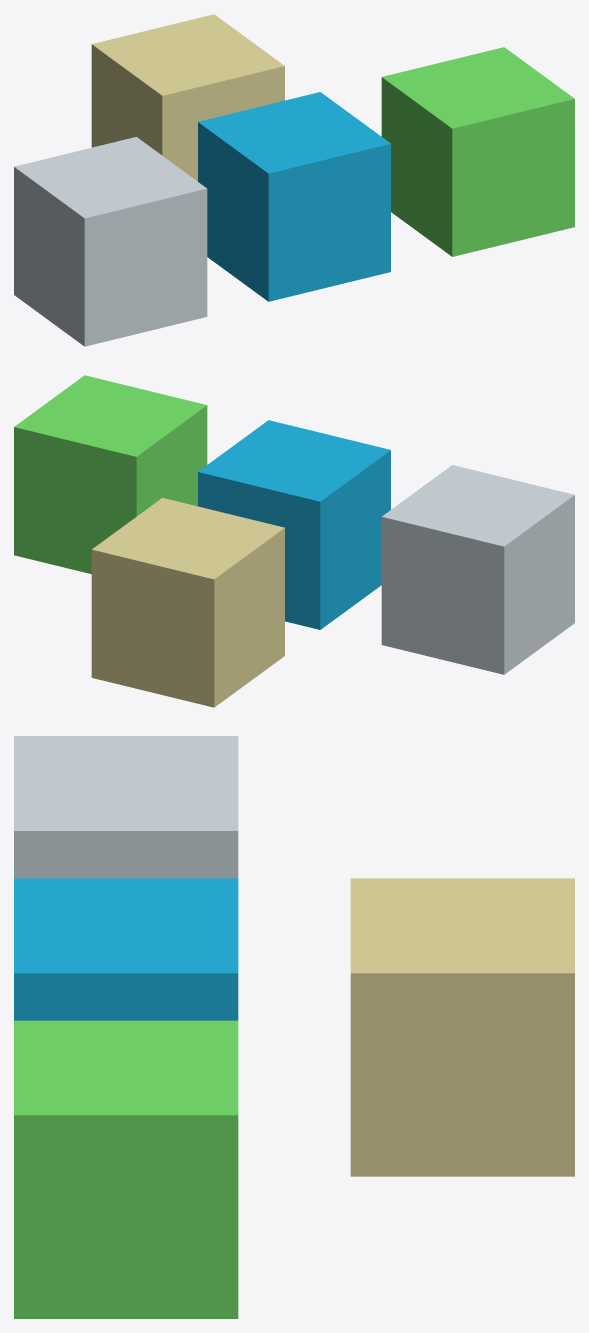
The model's file is Blocks.fbx.
3 renders of one model, top to bottom at view 1: azimuth 30°, elevation 25°; view 2: azimuth 150°, elevation 25°; view 3: azimuth 270°, elevation 25°, orthographic. The views are drawn at different scales.
Visible parts, largest first — view 1: Rock, Grass, Water, Sand; view 2: Sand, Rock, Grass, Water; view 3: Sand, Grass, Water, Rock.
Part boxes in pixels (box(x1,y1,x2,y2)): Rock: box(14, 137, 207, 346); Grass: box(381, 47, 574, 256); Water: box(198, 92, 390, 301); Sand: box(91, 14, 284, 181); Sand: box(91, 498, 284, 707); Rock: box(381, 465, 574, 674); Grass: box(14, 375, 207, 573); Water: box(198, 420, 390, 629); Sand: box(350, 878, 574, 1176); Grass: box(14, 1020, 238, 1318); Water: box(14, 878, 238, 1020); Rock: box(14, 736, 238, 878).
Size of the model in its own units: 800 by 200 by 500.
